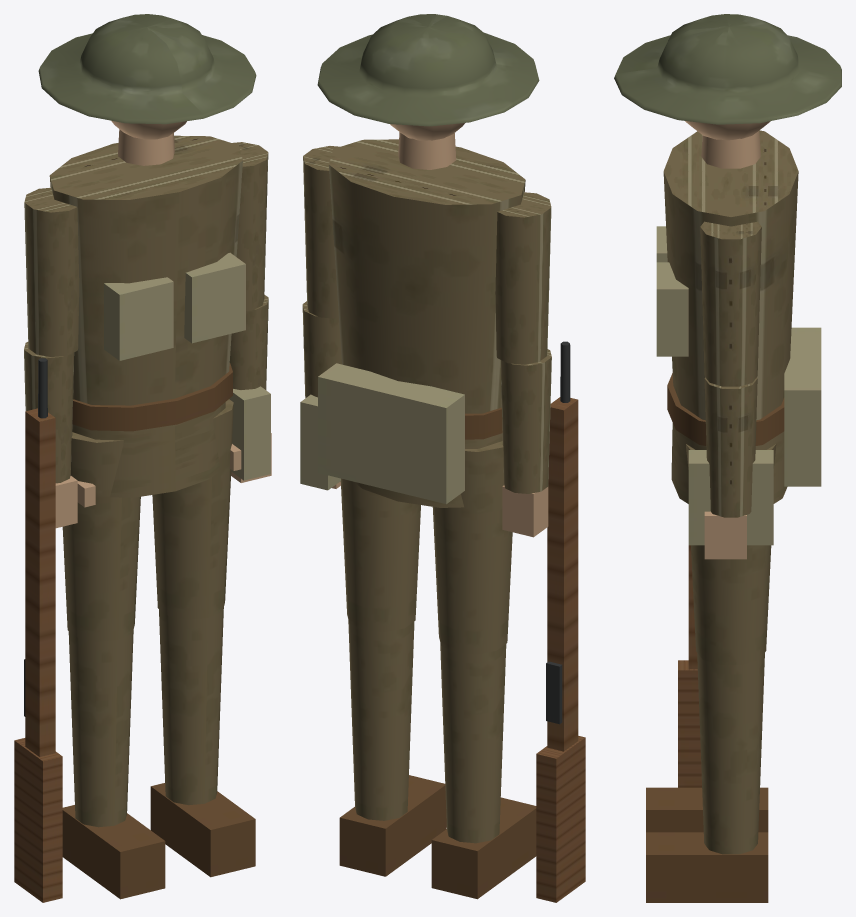
Rendered from infantry-1.glb.
3 renders of one model, left to right at view 1: azimuth 30°, elevation 25°; view 2: azimuth 150°, elevation 25°; view 3: azimuth 270°, elevation 25°, orthographic.
Visible parts, largest first — view 1: body, head, rifle, shin_left, shin_right, leg_right, leg_left, arm_right, forearm_right, arm_left, forearm_left; view 2: body, head, rifle, shin_left, shin_right, leg_right, leg_left, arm_right, forearm_right, arm_left, forearm_left; view 3: body, head, shin_left, arm_left, leg_left, forearm_left, rifle, shin_right.
Boxes of the visible parts, x1,y1,x2,y2 form: body: (49,135,270,497); head: (38,14,256,165); rifle: (14,358,62,902); shin_left: (150,607,255,877); shin_right: (62,630,165,899); leg_right: (62,432,140,641); leg_left: (152,399,233,619); arm_right: (24,187,79,356); forearm_right: (24,342,95,528); arm_left: (232,142,268,310); forearm_left: (229,294,271,482); body: (300,139,525,507); head: (317,14,539,169); rifle: (536,341,585,902); shin_left: (339,620,446,876); shin_right: (431,643,536,899); leg_right: (432,441,512,654); leg_left: (340,478,420,631); arm_right: (495,192,551,364); forearm_right: (500,349,551,537); arm_left: (303,146,339,318); forearm_left: (302,301,341,488); body: (656,130,821,545); head: (614,14,841,168); shin_left: (646,653,768,902); arm_left: (700,221,761,386); leg_left: (686,444,776,664); forearm_left: (704,377,757,559); rifle: (678,545,701,787); shin_right: (646,787,768,832).
Size of the model in its own units: 0.5496 by 1.75 by 0.429.
7 materials, 7 textured.
